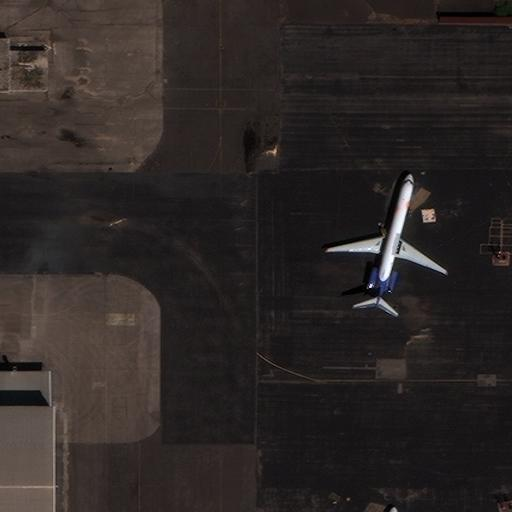Medium Civil Transport: (325, 174, 448, 309)
